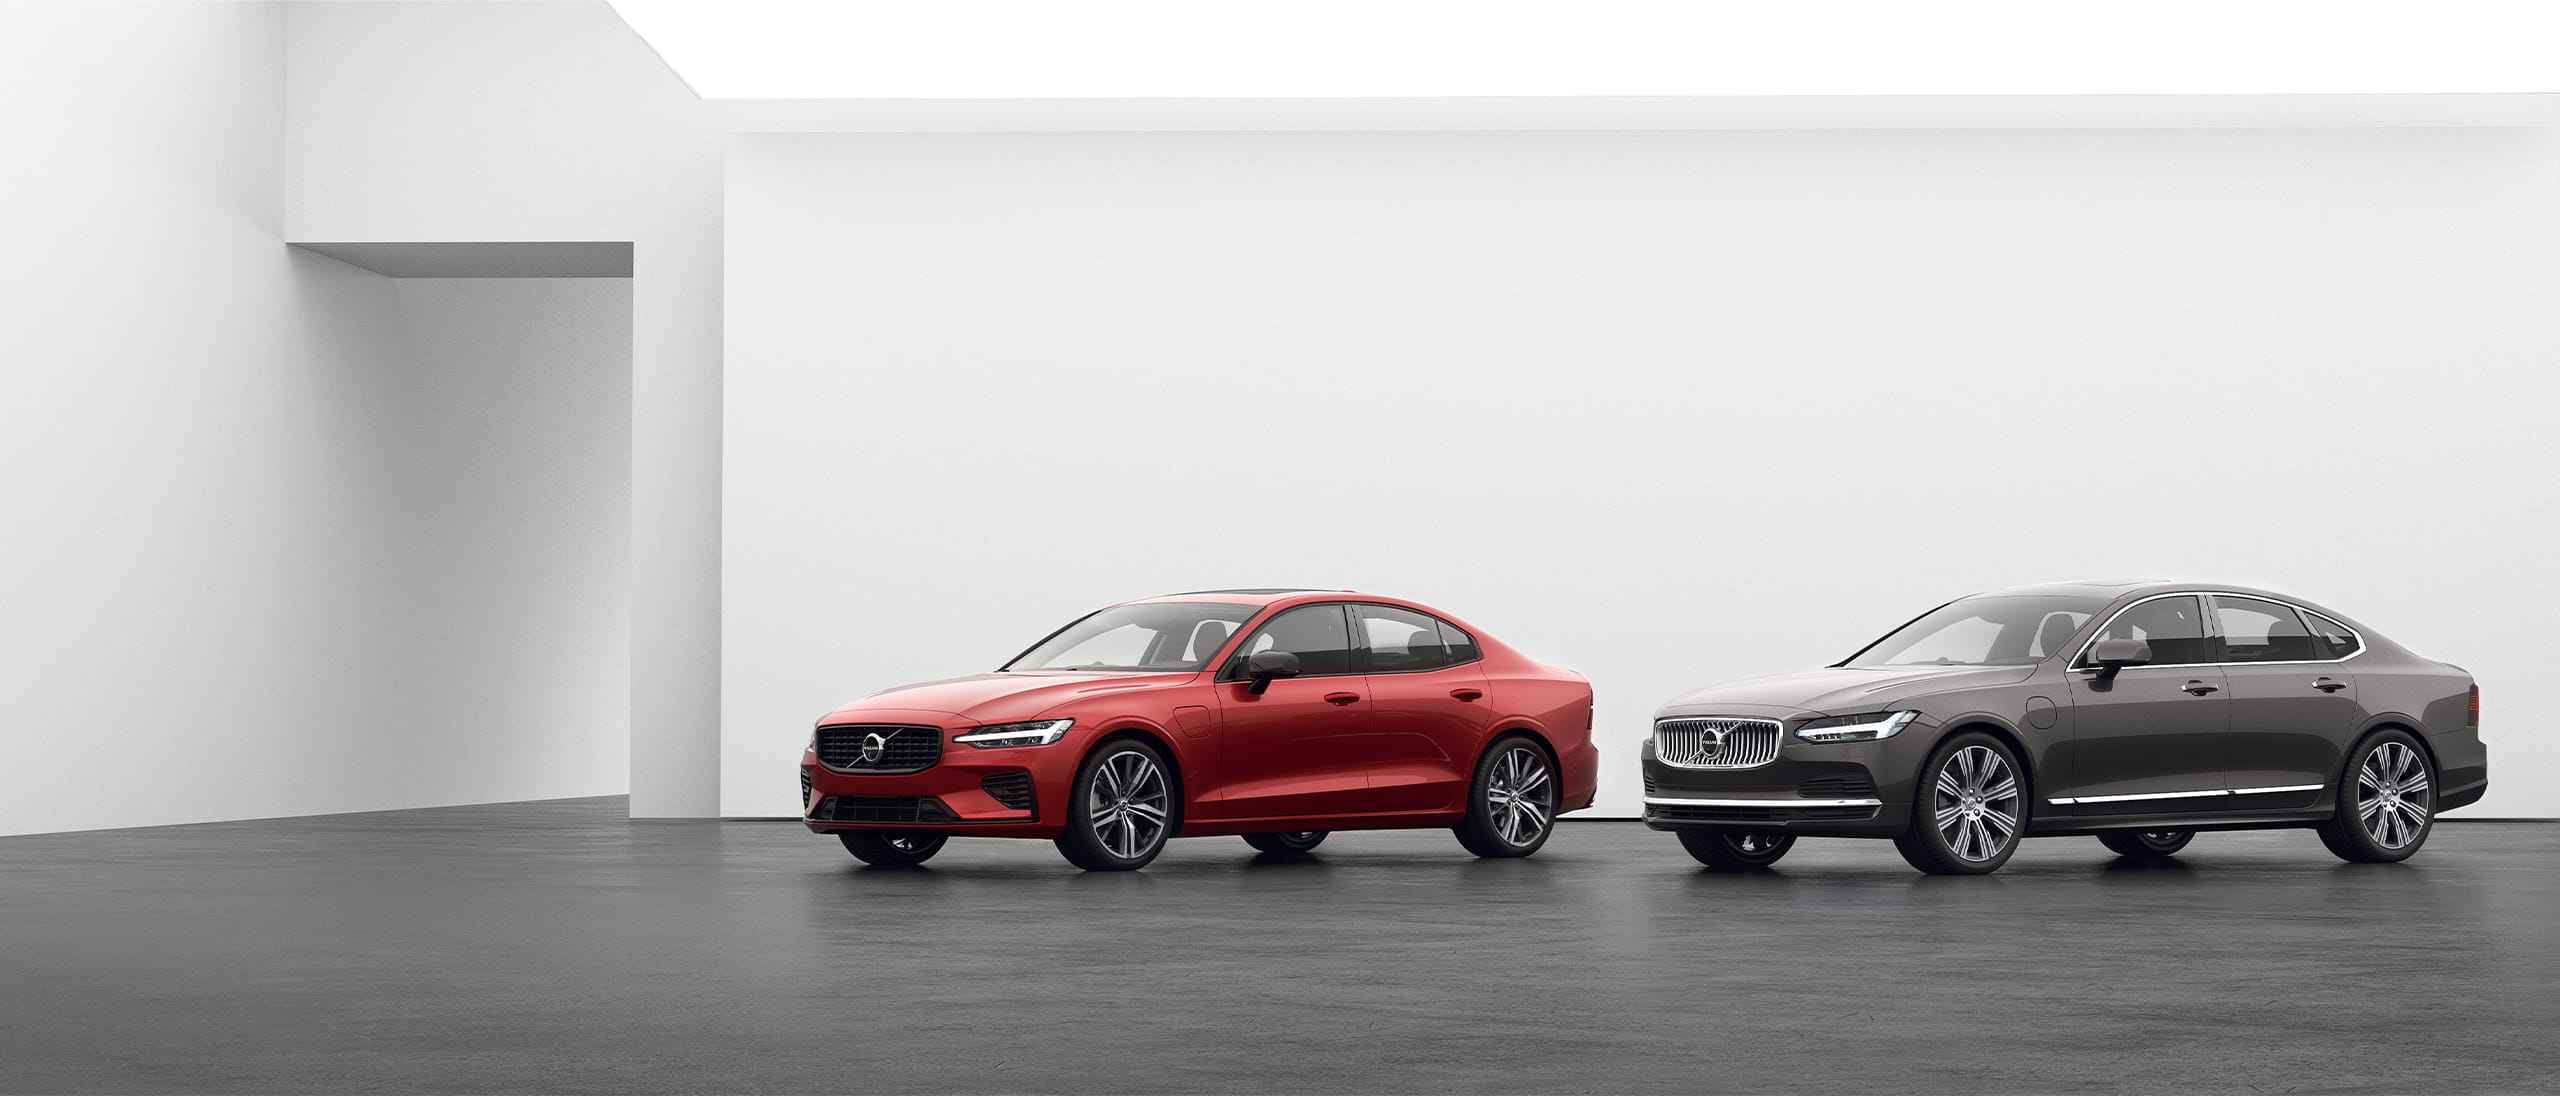car: (1638, 581, 2488, 875), (795, 585, 1602, 874)
